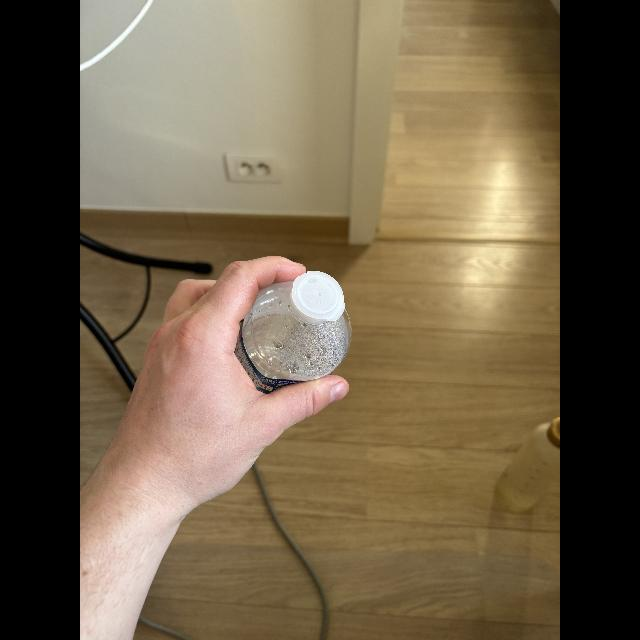Plastic: (234, 266, 350, 394), (496, 411, 558, 515)
